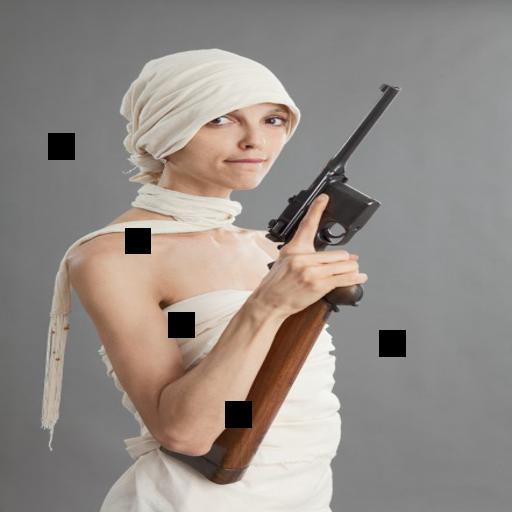Handgun: (267, 80, 402, 303)
